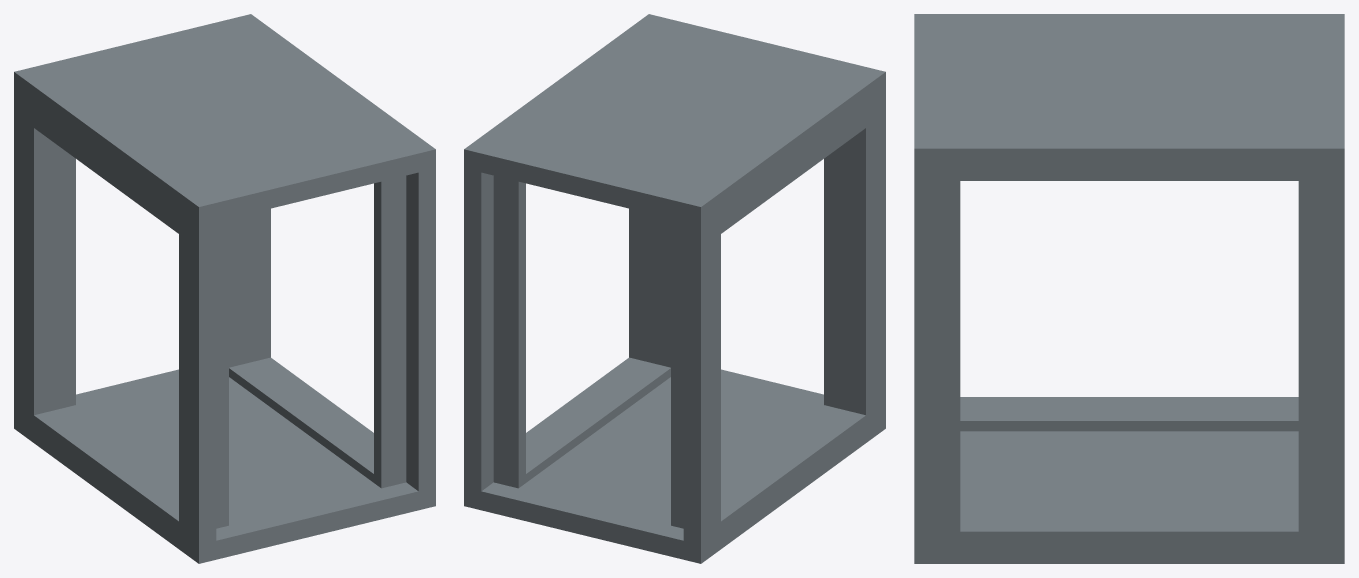
The model's file is SM_Prop_Server_Cabinet_03.glb.
3 renders of one model, left to right at view 1: azimuth 30°, elevation 25°; view 2: azimuth 150°, elevation 25°; view 3: azimuth 270°, elevation 25°, orthographic. The views are drawn at different scales.
Visible parts, largest first — view 1: SM_Prop_Server_Cabinet_03; view 2: SM_Prop_Server_Cabinet_03; view 3: SM_Prop_Server_Cabinet_03.
Part boxes in pixels (x1,y1,x2,y2): SM_Prop_Server_Cabinet_03: [14, 14, 435, 563]; SM_Prop_Server_Cabinet_03: [464, 14, 885, 563]; SM_Prop_Server_Cabinet_03: [914, 14, 1344, 563].
Size of the model in its own units: 0.567 by 0.8158 by 0.7661.
1 material, 1 textured.
